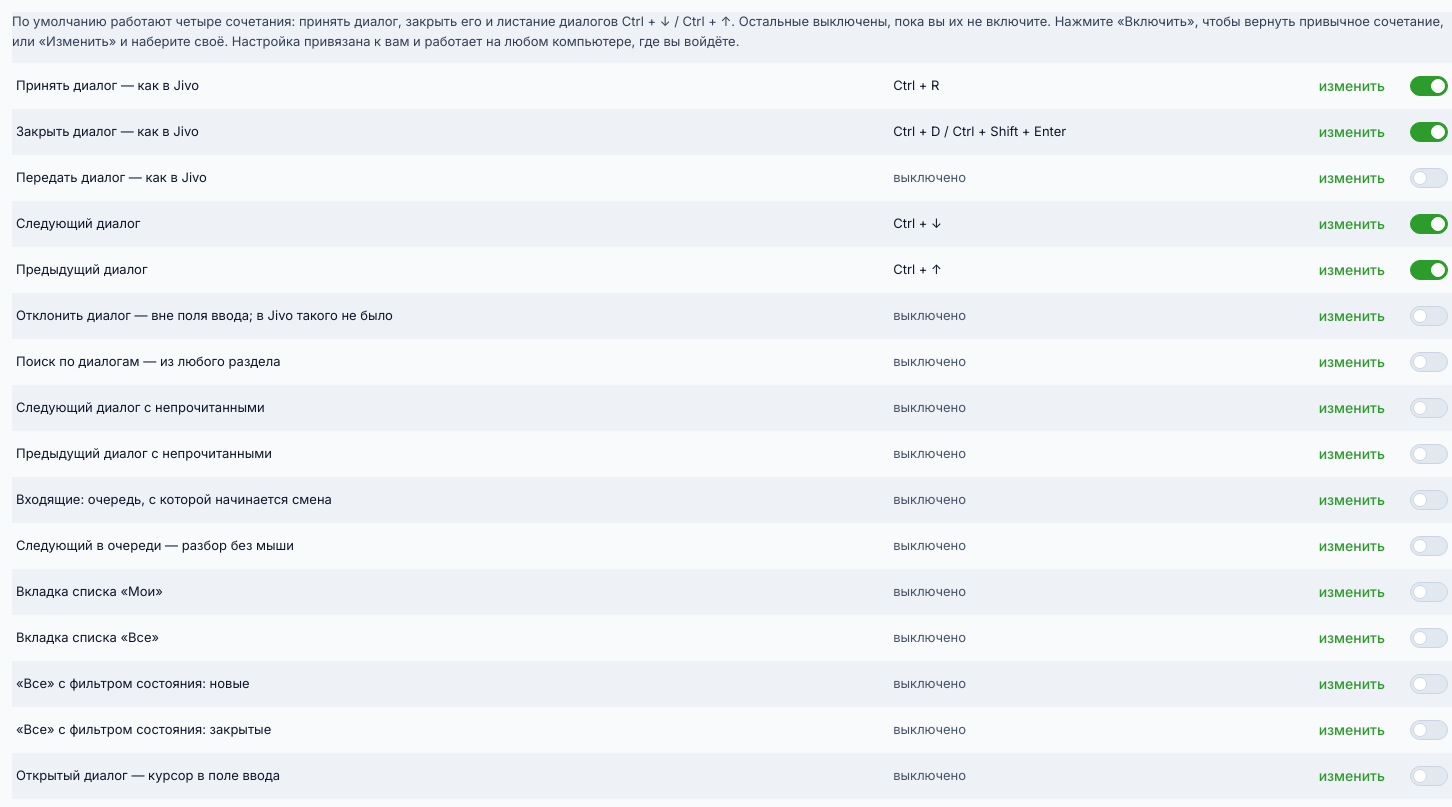
Test case: Редактор клавиш › «включить» забирает своё сочетание у действия, которому его отдали
# Ctrl+R отдан «Закрыть диалог» — «Принять» остался без клавиши.
Click the button with aria-label "Изменить сочетание" at (1352, 132), box [1306,116,1398,148]
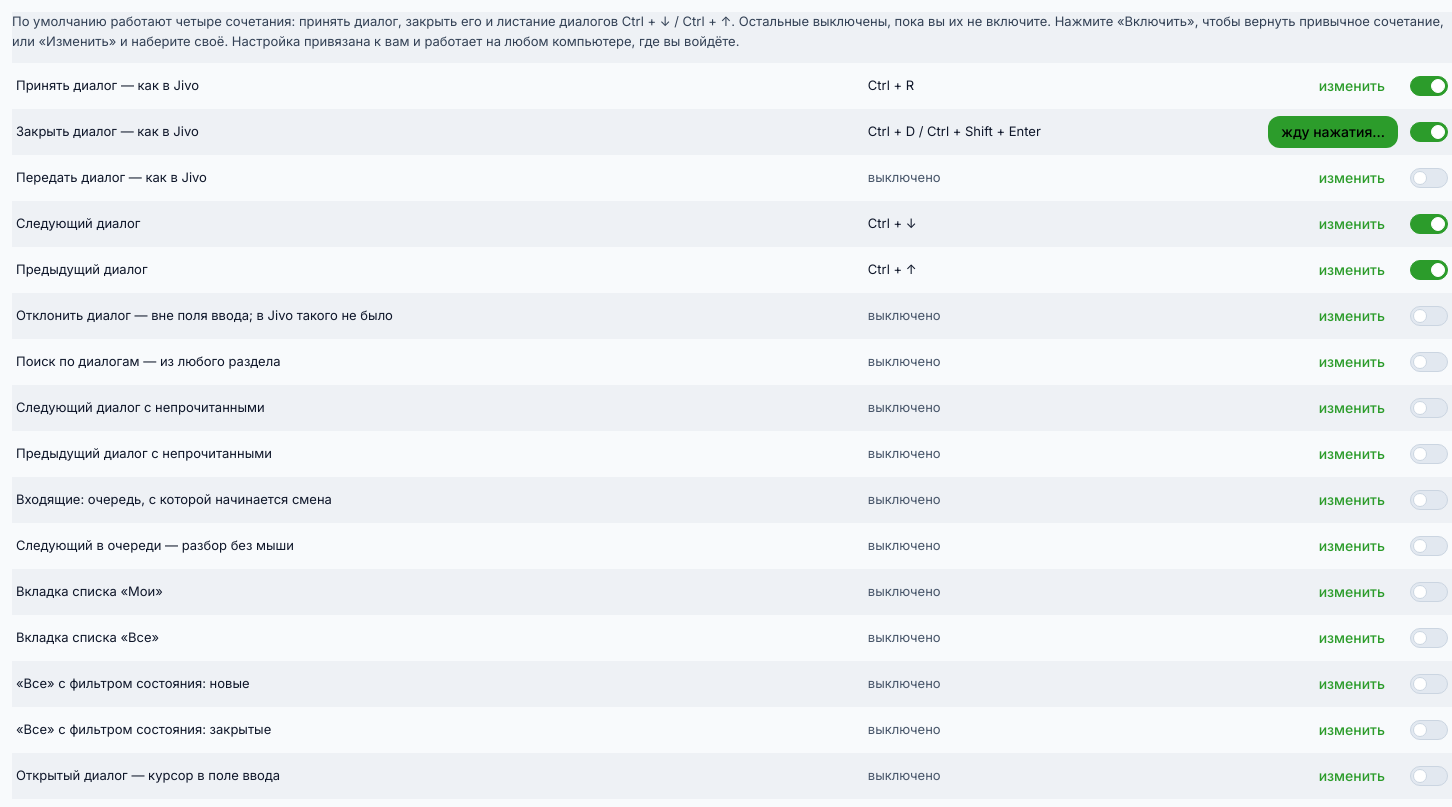
Press r in the button with aria-label "Изменить сочетание", box [1268,116,1398,148]
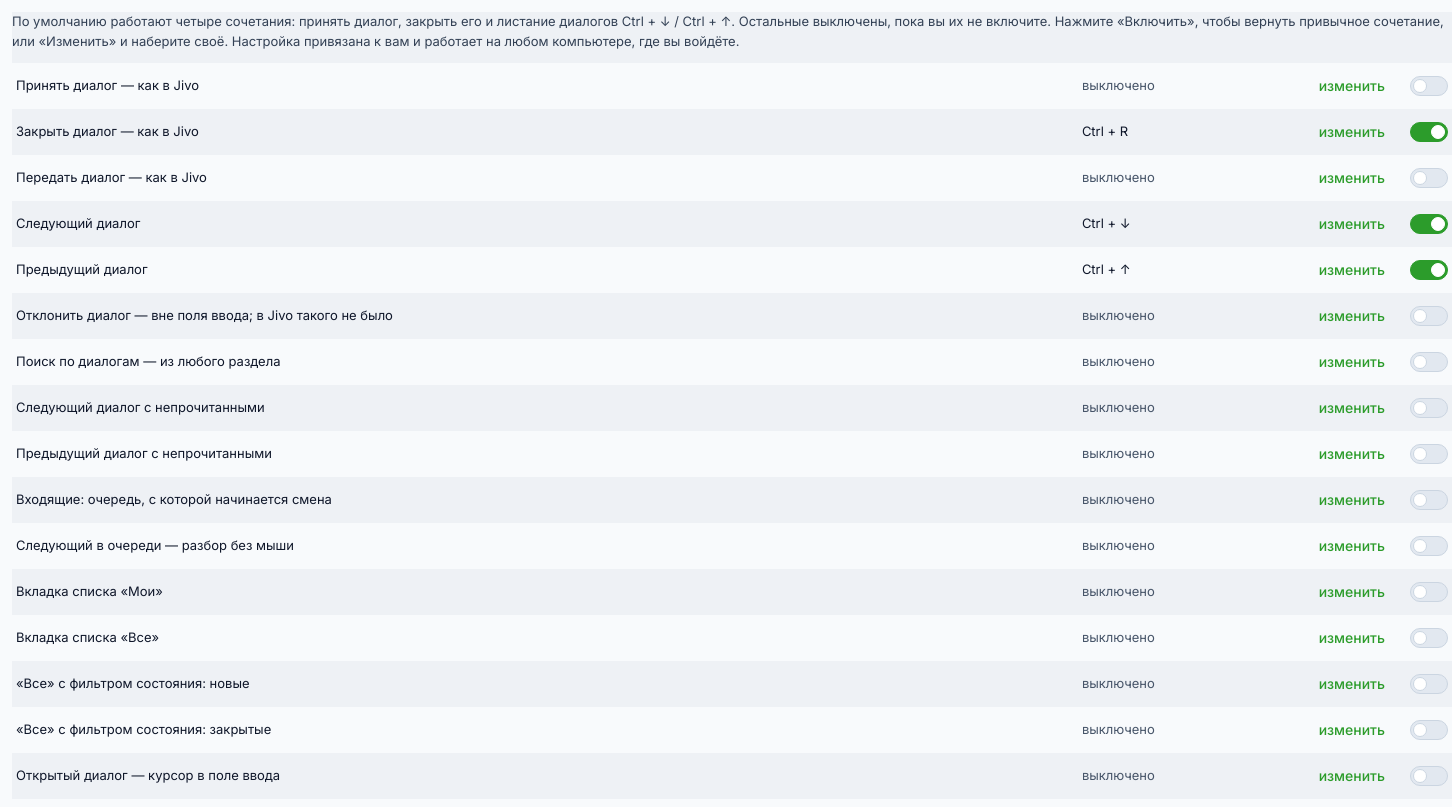
Check: the text "Принять диалог — как в Jivo выключено изменить" is shown, box [12,63,1451,109]
Click the switch named "Включить сочетание: Принять диалог — как в Jivo" at (1429, 86), box [1410,76,1448,96]
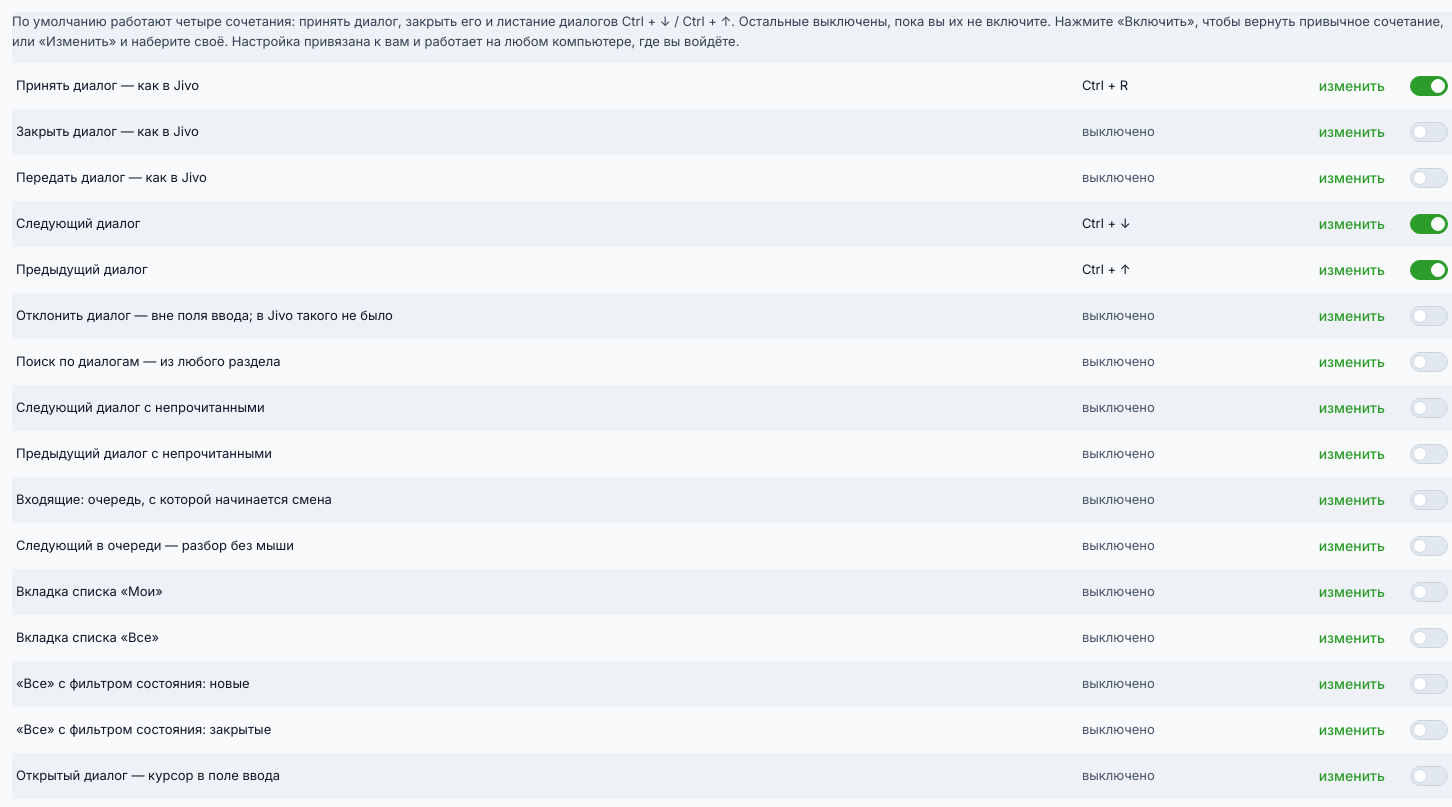
Check: the text "Принять диалог — как в Jivo Ctrl + R изменить" is shown, box [12,63,1451,109]
Check: the text "Закрыть диалог" no longer shows "Ctrl + R"
